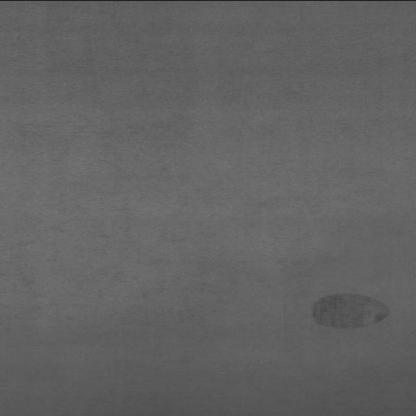oil_spot: (306, 289, 402, 330)
